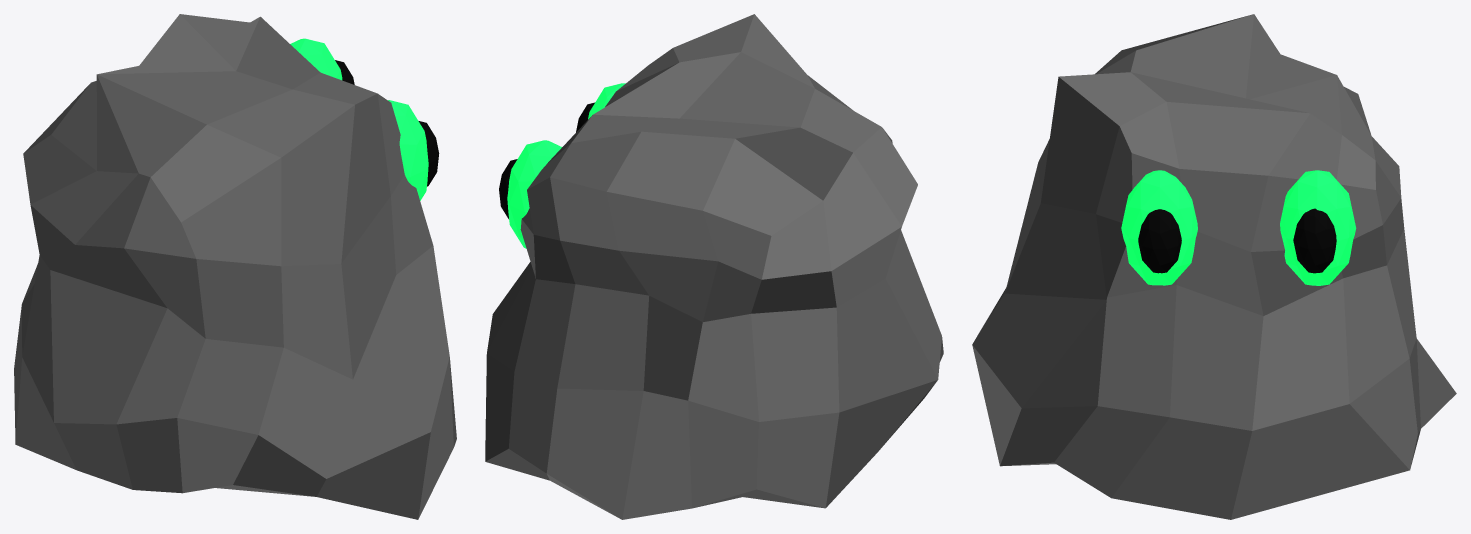
File: RockPsy.glb
3 renders of one model, left to right at view 1: azimuth 30°, elevation 25°; view 2: azimuth 150°, elevation 25°; view 3: azimuth 270°, elevation 25°, orthographic. The views are drawn at different scales.
Visible parts, largest first — view 1: Cube.002, Icosphere, Icosphere.001, Icosphere.002; view 2: Cube.002, Icosphere.001; view 3: Cube.002, Icosphere.001, Icosphere, Icosphere.003, Icosphere.002.
Part boxes in pixels (bbox=[...]): Cube.002: bbox=[14, 14, 456, 519]; Icosphere: bbox=[388, 100, 428, 200]; Icosphere.001: bbox=[290, 38, 342, 80]; Icosphere.002: bbox=[418, 121, 439, 186]; Cube.002: bbox=[485, 14, 943, 519]; Icosphere.001: bbox=[507, 140, 561, 248]; Cube.002: bbox=[972, 14, 1456, 519]; Icosphere.001: bbox=[1280, 170, 1356, 285]; Icosphere: bbox=[1121, 170, 1197, 285]; Icosphere.003: bbox=[1293, 208, 1336, 273]; Icosphere.002: bbox=[1138, 209, 1181, 273].
Size of the model in its own units: 3.48 by 3.1 by 3.63.
